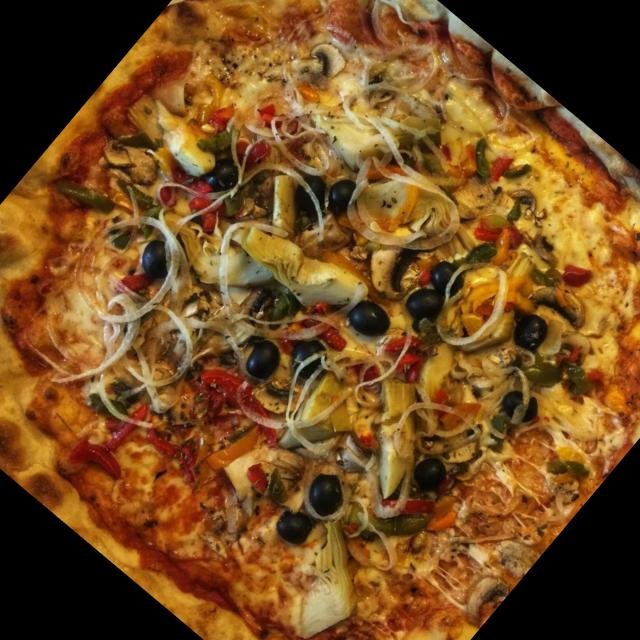black_olives: (341, 289, 400, 347), (191, 145, 248, 202), (298, 466, 351, 520), (282, 330, 334, 384), (416, 250, 467, 301), (130, 231, 180, 282), (495, 377, 545, 426), (407, 450, 455, 500), (400, 279, 448, 328), (508, 308, 554, 354), (320, 174, 364, 220), (274, 504, 318, 548), (288, 171, 330, 215), (244, 339, 286, 381)
mushrooms: (451, 152, 546, 245), (258, 20, 348, 110), (350, 216, 434, 301), (95, 124, 167, 194), (530, 268, 599, 334)
peppers: (201, 363, 297, 451), (66, 429, 132, 492), (204, 418, 264, 480), (470, 213, 531, 273), (178, 183, 236, 241), (378, 478, 433, 532), (440, 391, 485, 436)
pizza: (0, 0, 640, 640)
